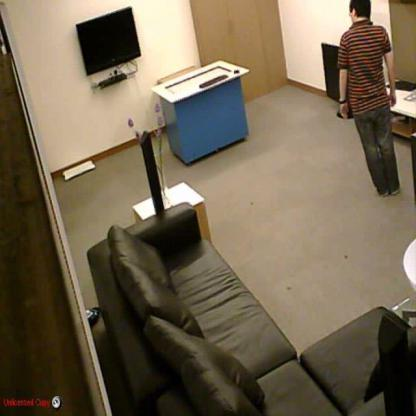Person: (339, 1, 399, 198)
